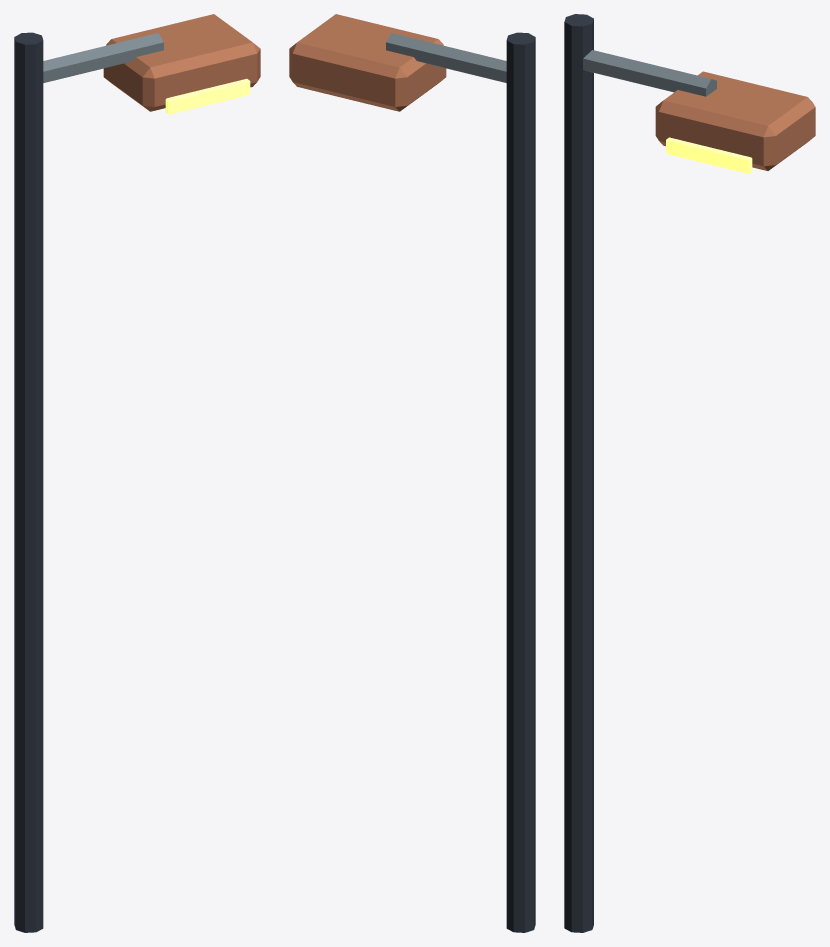
Rendered from street_012_seed11.glb.
3 renders of one model, left to right at view 1: azimuth 30°, elevation 25°; view 2: azimuth 150°, elevation 25°; view 3: azimuth 330°, elevation 25°, orthographic. The views are drawn at different scales.
Visible parts, largest first — view 1: street_012_seed11; view 2: street_012_seed11; view 3: street_012_seed11.
Boxes of the visible parts, left/top/right/bottom form: street_012_seed11: left=14, top=14, right=260, bottom=932; street_012_seed11: left=289, top=14, right=535, bottom=932; street_012_seed11: left=564, top=14, right=815, bottom=932.
Size of the model in its own units: 0.955 by 3.6 by 0.3775.
